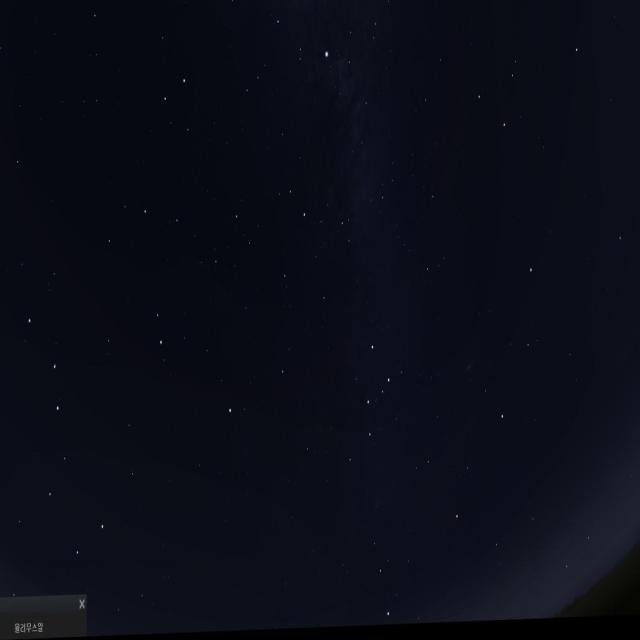cassiopeia: (339, 335, 403, 485)
ursa_major: (22, 298, 108, 578)
